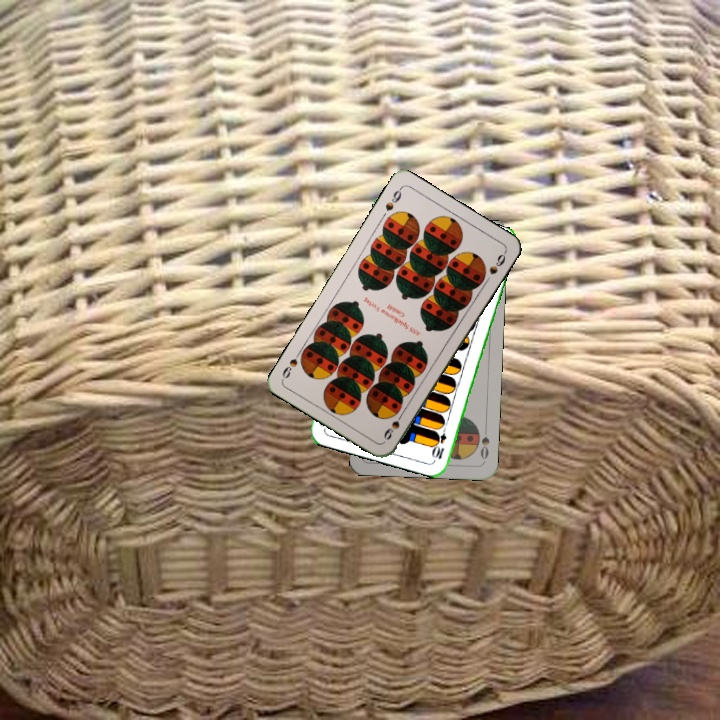E10: (430, 421, 449, 462)
S9: (380, 407, 407, 443), (381, 184, 404, 214)
SO: (477, 424, 492, 464)
